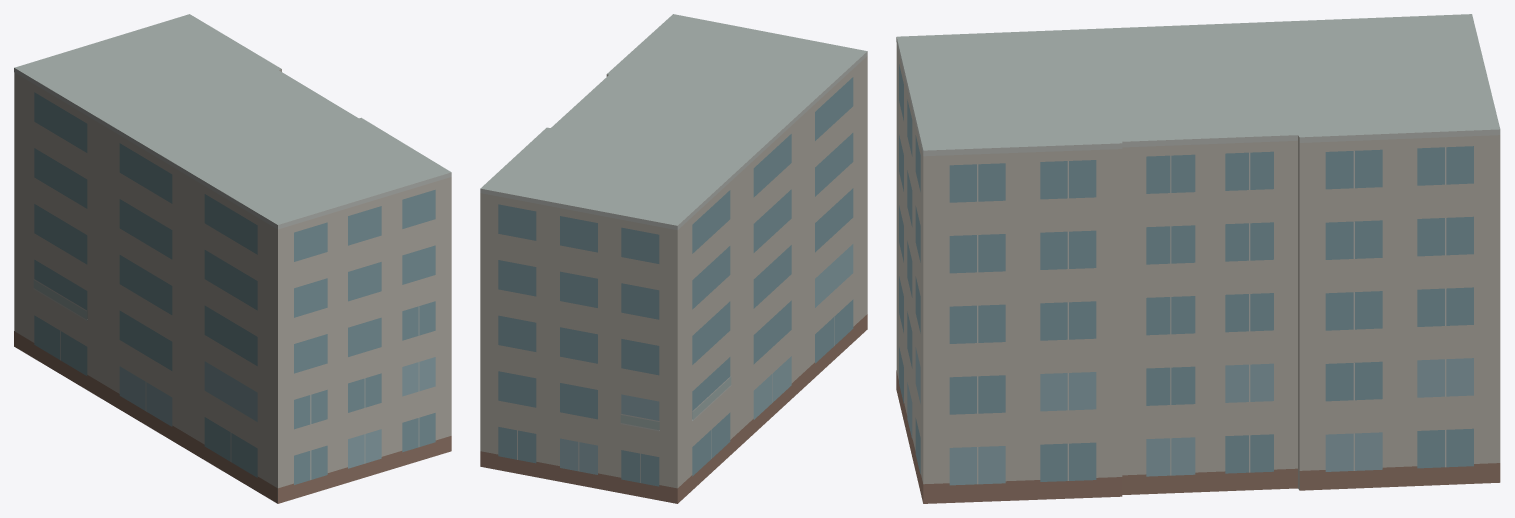
The model's file is survey-upis-32955646.glb.
3 views of the same model, side by side, from view 1: azimuth 30°, elevation 25°; view 2: azimuth 150°, elevation 25°; view 3: azimuth 270°, elevation 25° (orthographic). The views are drawn at different scales.
Parts seen in each view (by area): view 1: survey-upis-32955646.tmp; view 2: survey-upis-32955646.tmp; view 3: survey-upis-32955646.tmp.
Part boxes in pixels (x1,y1,x2,y2): survey-upis-32955646.tmp: (14, 14, 451, 503); survey-upis-32955646.tmp: (480, 14, 867, 503); survey-upis-32955646.tmp: (896, 14, 1500, 503).
Size of the model in its own units: 12.66 by 15.25 by 23.63.
